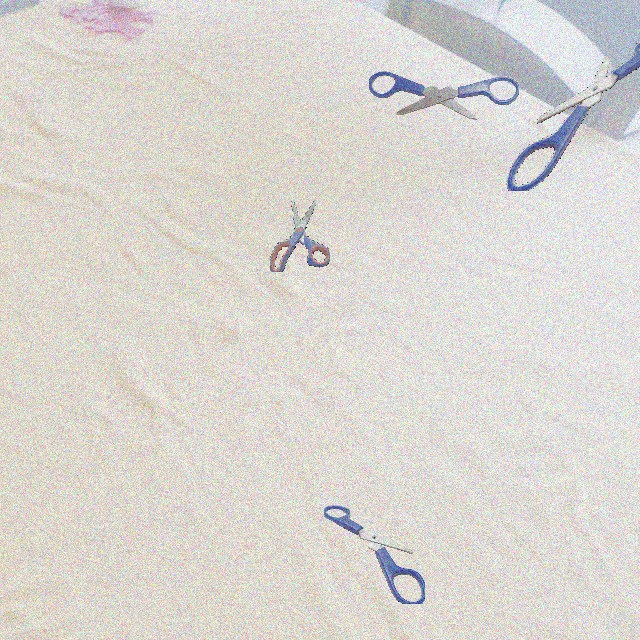scissors: (506, 32, 640, 191), (324, 505, 425, 604), (369, 71, 519, 120), (270, 200, 330, 272)
